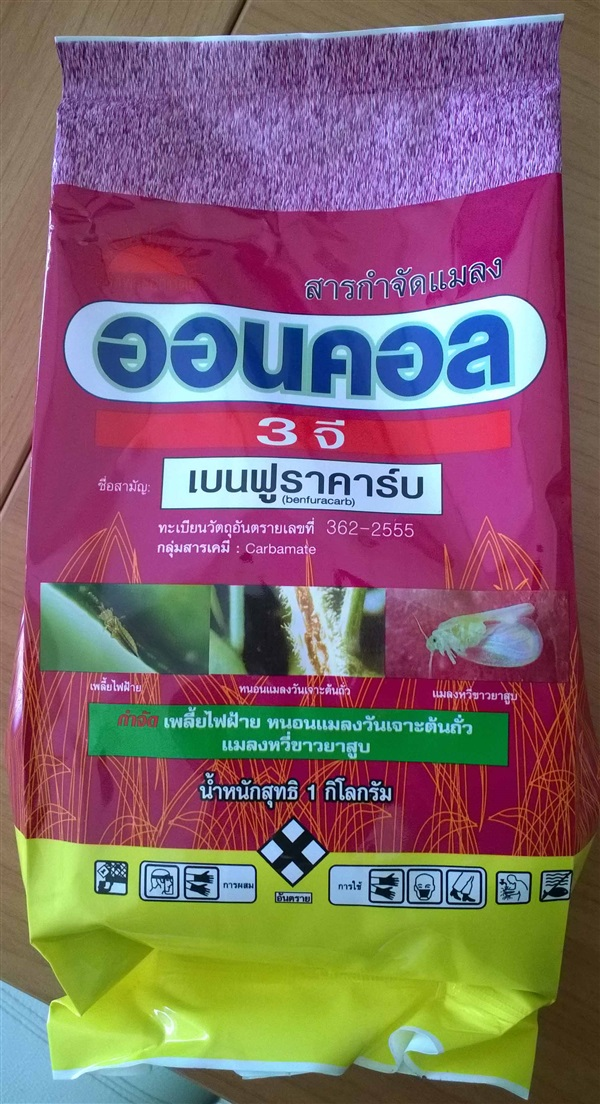Insecticide: (7, 6, 600, 1104)
